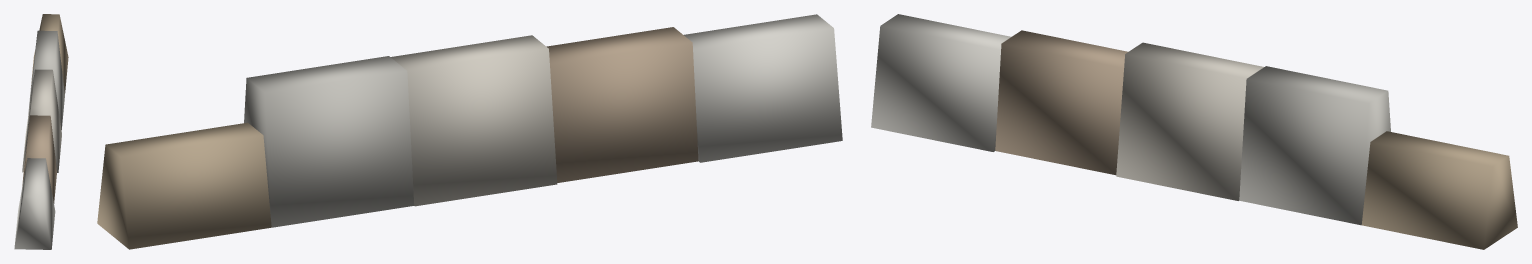
Rendered from farm_-38_-32_collision.glb.
The picture shows the model from 3 angles, left to right: view 1: azimuth 30°, elevation 25°; view 2: azimuth 150°, elevation 25°; view 3: azimuth 270°, elevation 25°; orthographic projection. The views are drawn at different scales.
Visible parts, largest first — view 1: geometry_0; view 2: geometry_0; view 3: geometry_0.
Part boxes in pixels (x1,y1,x2,y2): geometry_0: [14, 14, 68, 249]; geometry_0: [97, 14, 842, 249]; geometry_0: [871, 14, 1517, 249].
Bounding box in the file's own units: 4.9 × 1.83 × 7.11.
